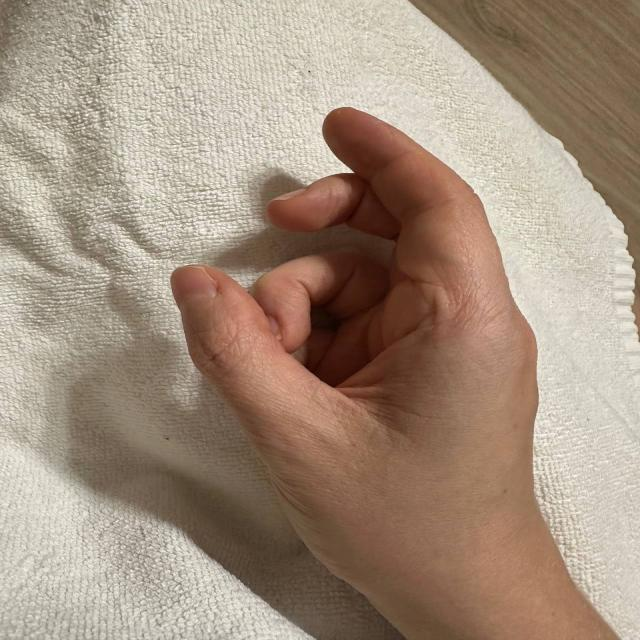b: (145, 84, 564, 544)
